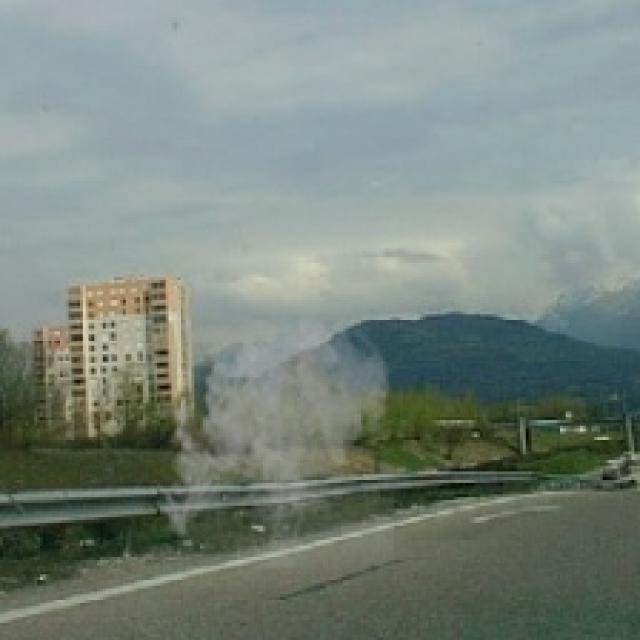Smoke: (157, 302, 397, 568)
